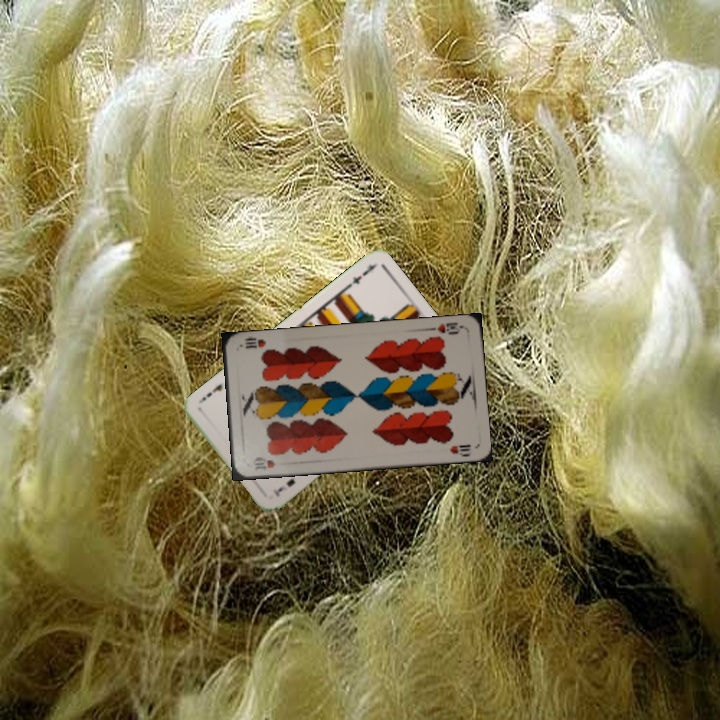E7: (343, 260, 378, 290), (269, 474, 298, 499)
H10: (433, 318, 466, 337), (248, 454, 278, 473)
